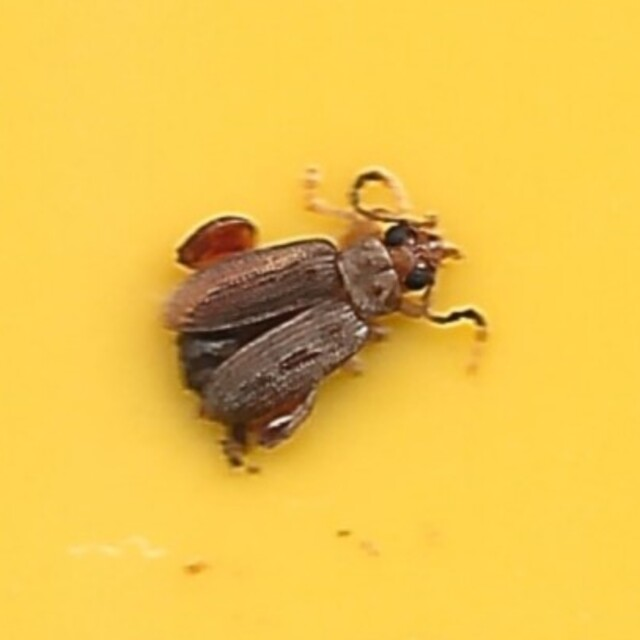Coleoptera: (157, 173, 483, 467)
